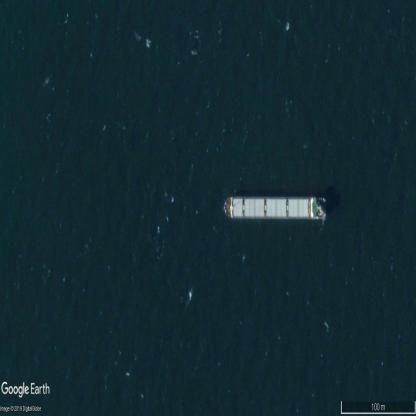ship: (224, 195, 327, 225)
